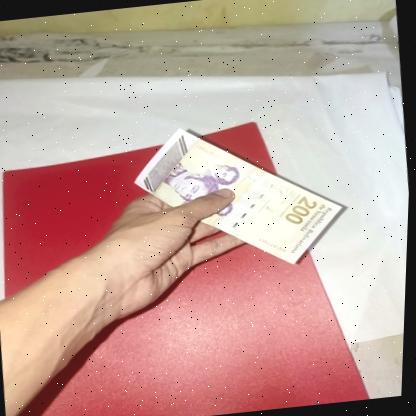two_hundred-front-vef: (125, 109, 352, 281)
